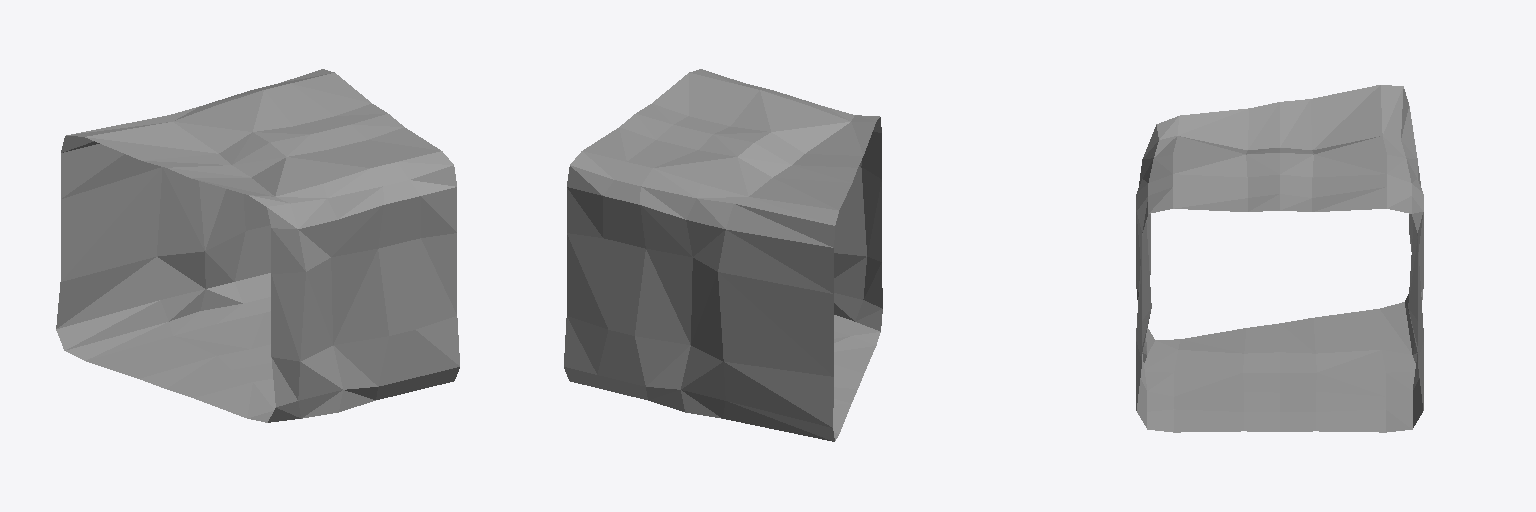
The model's file is Sharft_20c_Left.obj.
3 views of the same model, side by side, from view 1: azimuth 30°, elevation 25°; view 2: azimuth 150°, elevation 25°; view 3: azimuth 270°, elevation 25° (orthographic).
Parts seen in each view (by area): view 1: Sharft_20c_Left; view 2: Sharft_20c_Left; view 3: Sharft_20c_Left.
Part boxes in pixels (x1,y1,x2,y2): Sharft_20c_Left: (56, 69, 459, 422); Sharft_20c_Left: (564, 69, 882, 441); Sharft_20c_Left: (1136, 85, 1423, 432).
Size of the model in its own units: 3.14 by 2.54 by 2.95.